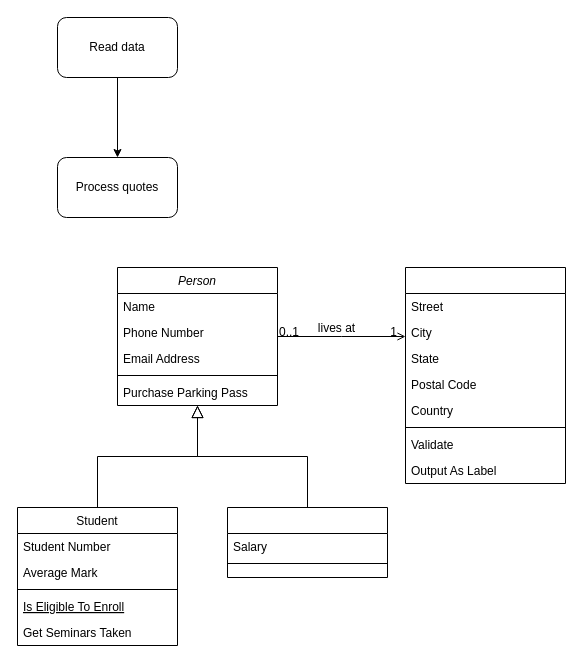
Image size: 583x666. Some labels were removed from this diagram. The box of each missing label's shape, as (x1, y1, x2, y2) in pixels:
Address: (404, 266, 566, 484)
Professor: (226, 506, 388, 578)
